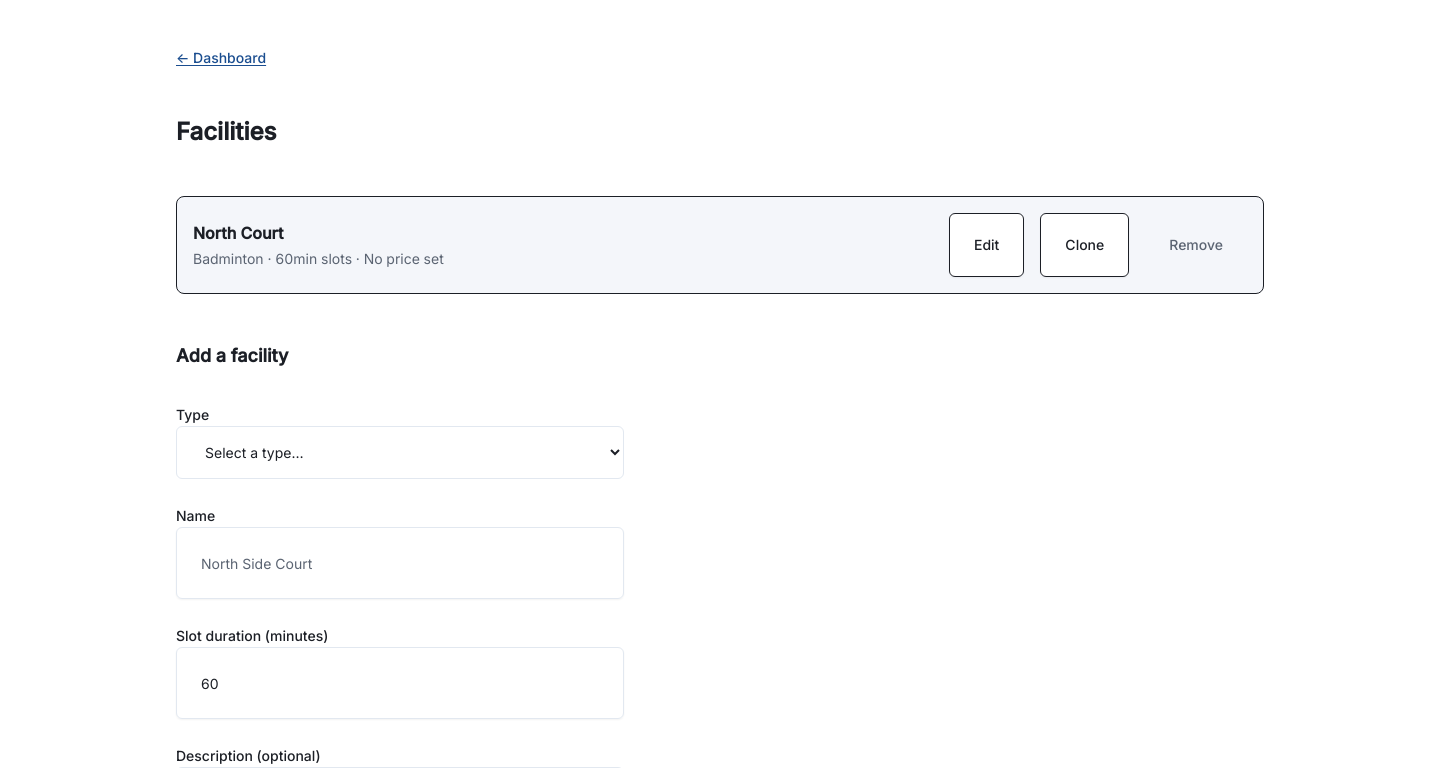
TenantFacilities › edit dialog shows an empty price field for a facility with no price_paise
Click the button "Edit".
click(987, 245)  # box [949,213,1024,277]
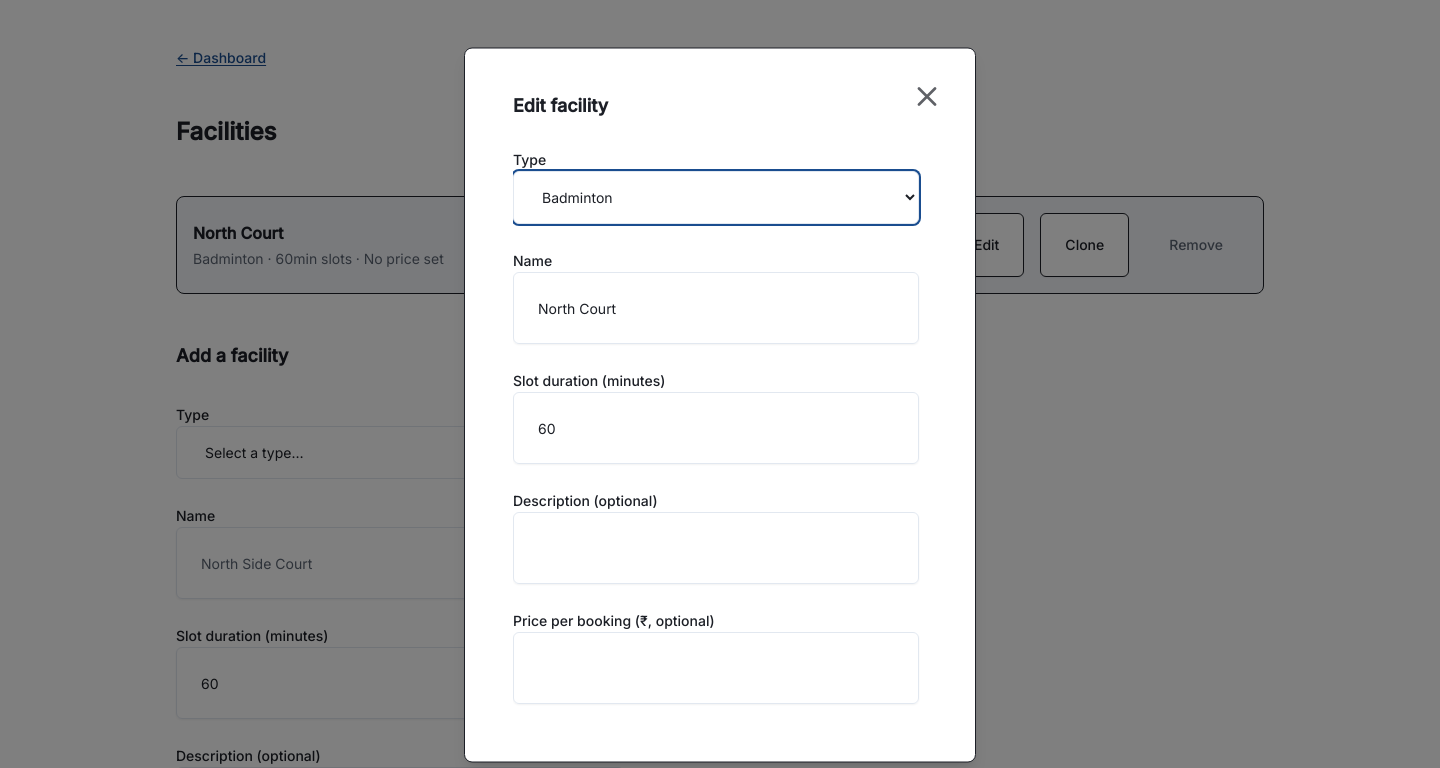
Now the number field labelled "Price per booking (₹, optional)" is not empty, box [513,632,919,704]
